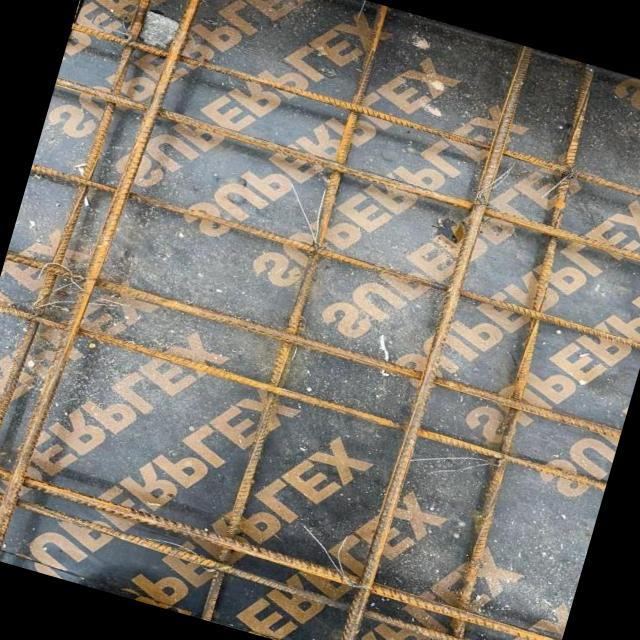ribbed bar: (408, 63, 628, 640), (0, 0, 216, 571), (334, 42, 535, 640), (199, 3, 391, 622), (4, 251, 622, 442), (0, 300, 608, 492), (30, 160, 640, 351), (52, 77, 640, 271), (70, 21, 640, 211), (0, 451, 564, 640), (0, 0, 171, 559), (0, 471, 559, 640)
